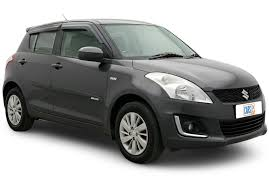Swift: (5, 14, 266, 165)
